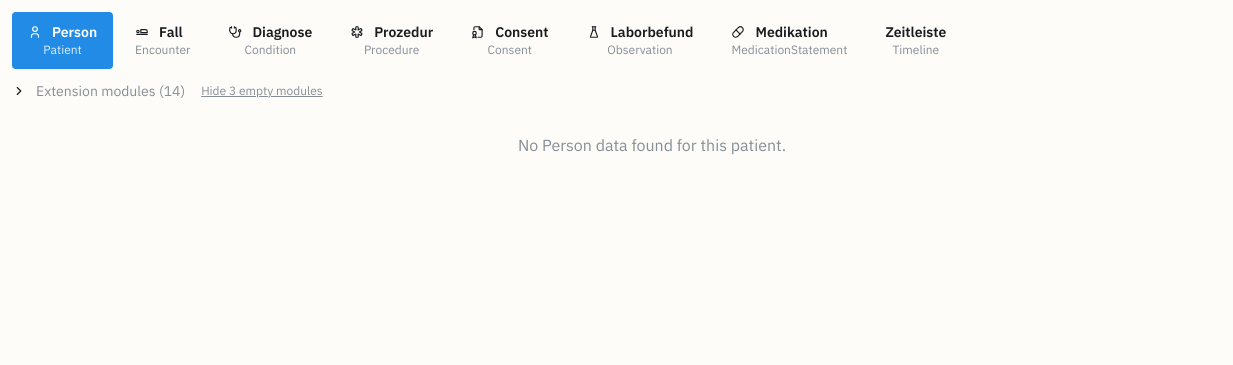
Test: Phase 42 (MII-EXT-15) — pre-probe counts on extension tabs › count appends to extension tab labels
# Expand the Collapse so the extension pills render.
Click the button "Extension modules (14)" at (99, 91), box [12,81,185,101]
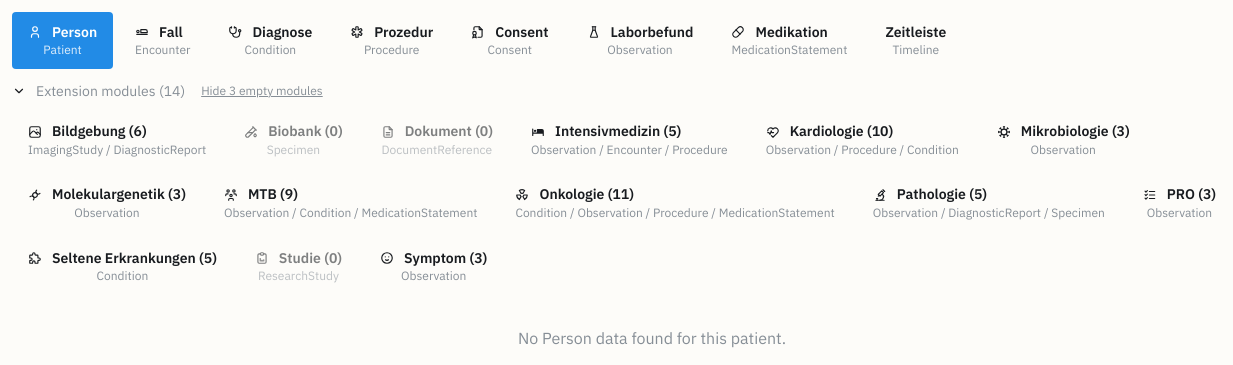
Expected: the text "Onkologie (11)" is shown, [539,184,634,205]
Expected: the text "Bildgebung (6)" is shown, [52,121,147,142]
